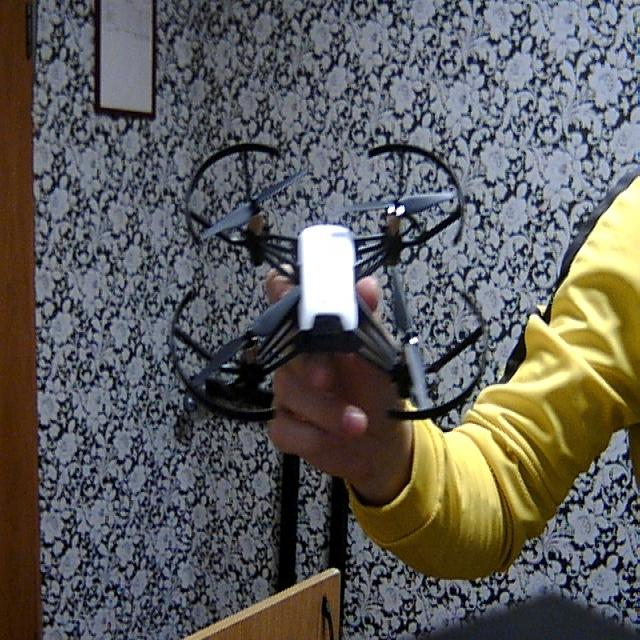drone: (167, 120, 496, 429)
